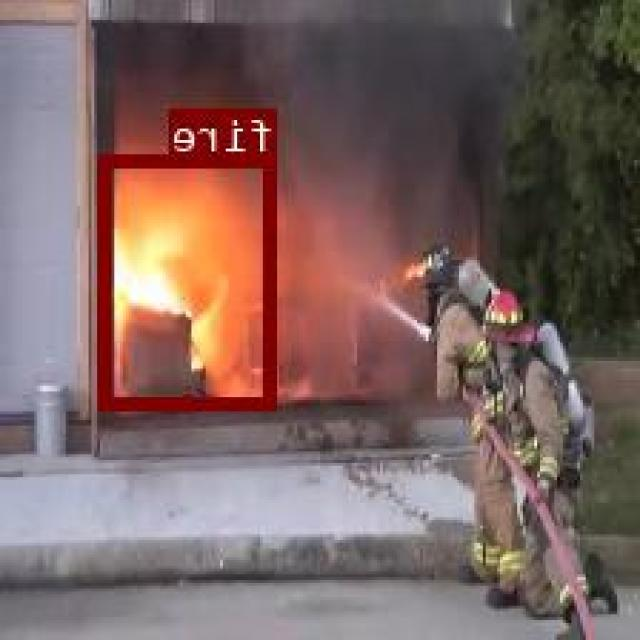fire: (100, 154, 280, 407)
